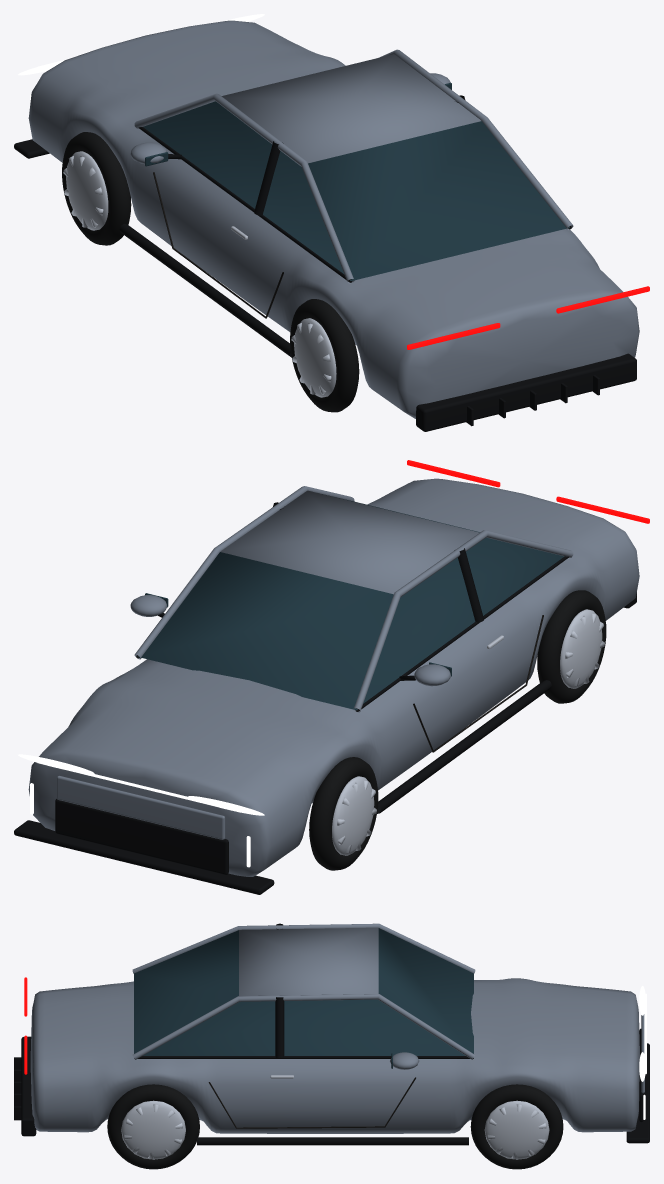
Rendered from pune-electric.glb.
3 renders of one model, top to bottom at view 1: azimuth 30°, elevation 25°; view 2: azimuth 150°, elevation 25°; view 3: azimuth 270°, elevation 25°, orthographic. The views are drawn at different scales.
Visible parts, largest first — view 1: Surface_Paint, Surface_Glazing, Surface_Carbon, Tire, Tire.001, Rim_lip.001, Rim_lip, Surface_Tailights; view 2: Surface_Paint, Surface_Glazing, Surface_Carbon, Tire.001, Tire, Rim_lip, Rim_lip.001, Surface_Headlights, Surface_Tailights; view 3: Surface_Paint, Surface_Glazing, Surface_Carbon, Tire.002, Tire.003, Rim_lip.003, Rim_lip.002, Surface_Headlights, Surface_Panel_seams.
Boxes of the visible parts, x1=… form: Surface_Paint: x1=28, y1=20, x2=639, y2=418; Surface_Glazing: x1=143, y1=82, x2=569, y2=280; Surface_Carbon: x1=14, y1=95, x2=636, y2=431; Tire: x1=290, y1=299, x2=359, y2=412; Tire.001: x1=62, y1=132, x2=131, y2=245; Rim_lip.001: x1=63, y1=151, x2=108, y2=230; Rim_lip: x1=291, y1=318, x2=336, y2=397; Surface_Tailights: x1=407, y1=286, x2=649, y2=349; Surface_Paint: x1=28, y1=478, x2=639, y2=876; Surface_Glazing: x1=138, y1=494, x2=564, y2=710; Surface_Carbon: x1=14, y1=502, x2=636, y2=894; Tire.001: x1=309, y1=757, x2=378, y2=870; Tire: x1=537, y1=590, x2=606, y2=703; Rim_lip: x1=560, y1=609, x2=604, y2=688; Rim_lip.001: x1=332, y1=776, x2=376, y2=855; Surface_Headlights: x1=18, y1=754, x2=264, y2=867; Surface_Tailights: x1=407, y1=460, x2=649, y2=523; Surface_Paint: x1=30, y1=923, x2=644, y2=1133; Surface_Glazing: x1=134, y1=928, x2=473, y2=1068; Surface_Carbon: x1=14, y1=923, x2=649, y2=1145; Tire.002: x1=107, y1=1084, x2=199, y2=1169; Tire.003: x1=470, y1=1084, x2=563, y2=1169; Rim_lip.003: x1=484, y1=1100, x2=549, y2=1159; Rim_lip.002: x1=121, y1=1100, x2=185, y2=1159; Surface_Headlights: x1=639, y1=986, x2=646, y2=1119; Surface_Panel_seams: x1=208, y1=1077, x2=415, y2=1128.
Bounding box in the file's own units: 2.35 × 1.46 × 5.14.
